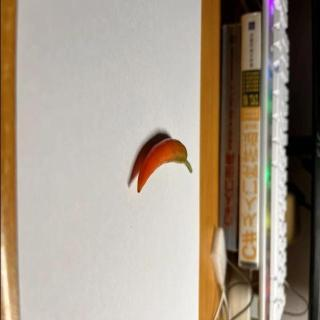Cabai Merah: (138, 139, 194, 194)
